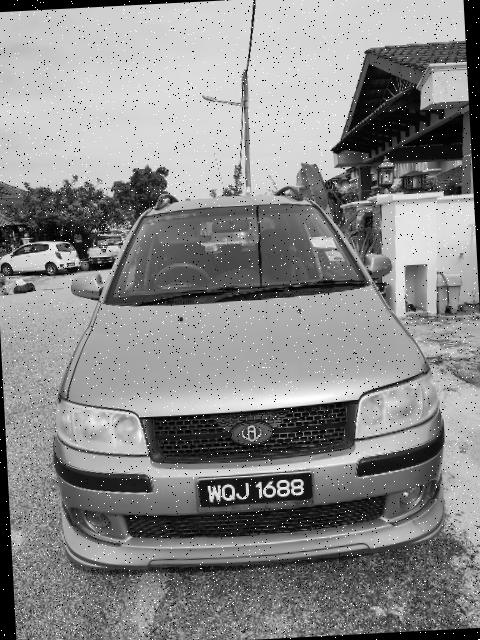License_Plate: (196, 476, 317, 509)
car: (33, 185, 458, 585)
